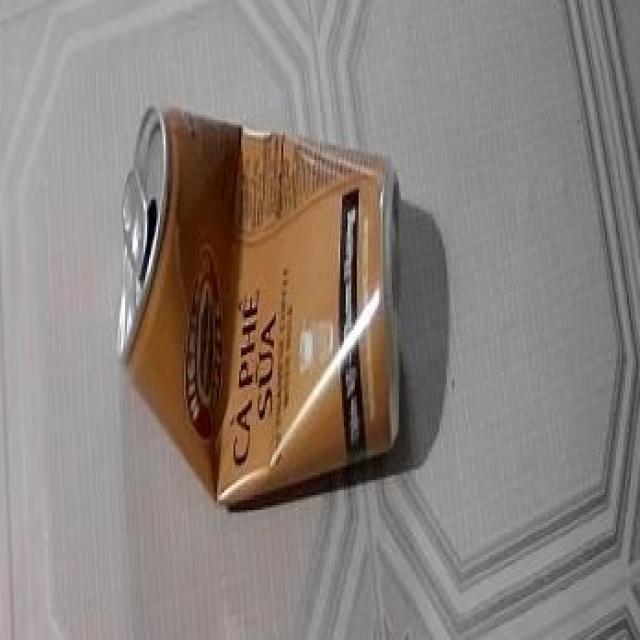kimloai: (118, 107, 396, 506)
